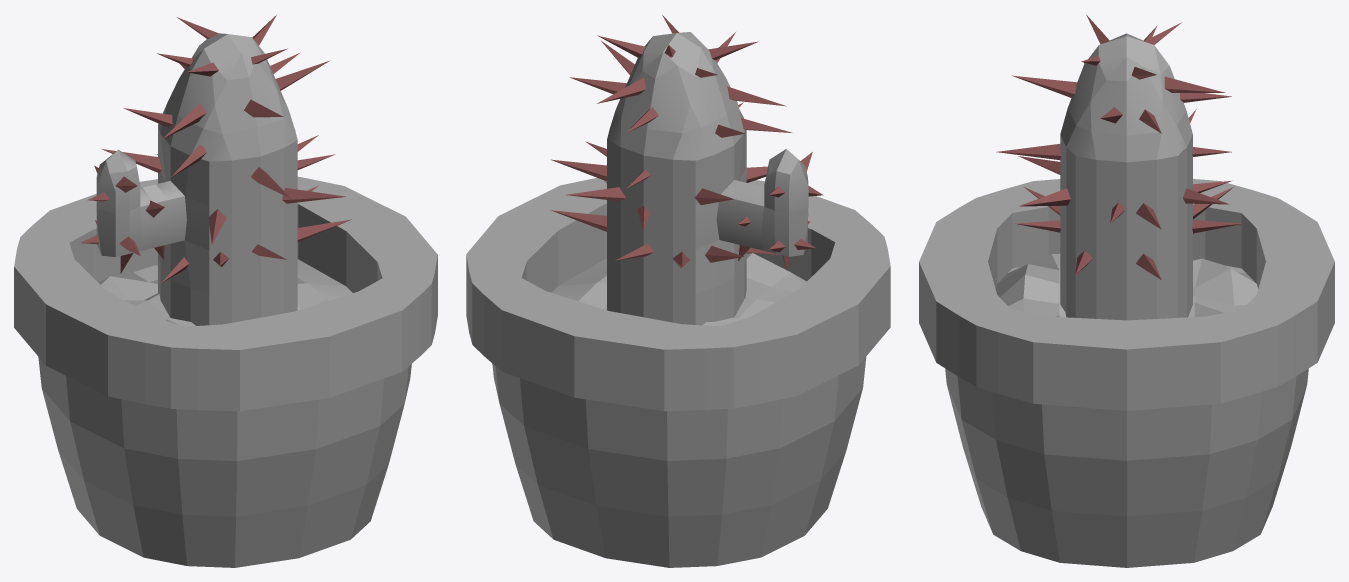
Rendered from cactus.fbx.
The picture shows the model from 3 angles, left to right: view 1: azimuth 30°, elevation 25°; view 2: azimuth 150°, elevation 25°; view 3: azimuth 270°, elevation 25°; orthographic projection.
Visible parts, largest first — view 1: pCube1, pCube2, pCone5; view 2: pCube1, pCube2; view 3: pCube1, pCube2, pCone4, pCone1, pCone26.
Part boxes in pixels (x1=…): pCube1: x1=14, y1=176, x2=437, y2=567; pCube2: x1=96, y1=33, x2=297, y2=325; pCone5: x1=282, y1=188, x2=345, y2=203; pCube1: x1=466, y1=178, x2=890, y2=567; pCube2: x1=607, y1=32, x2=808, y2=325; pCube1: x1=919, y1=179, x2=1334, y2=567; pCube2: x1=1060, y1=33, x2=1192, y2=320; pCone4: x1=1012, y1=75, x2=1077, y2=97; pCone1: x1=996, y1=144, x2=1061, y2=160; pCone26: x1=1164, y1=76, x2=1225, y2=92.
Size of the model in its own units: 1.53 by 1.93 by 1.53.
